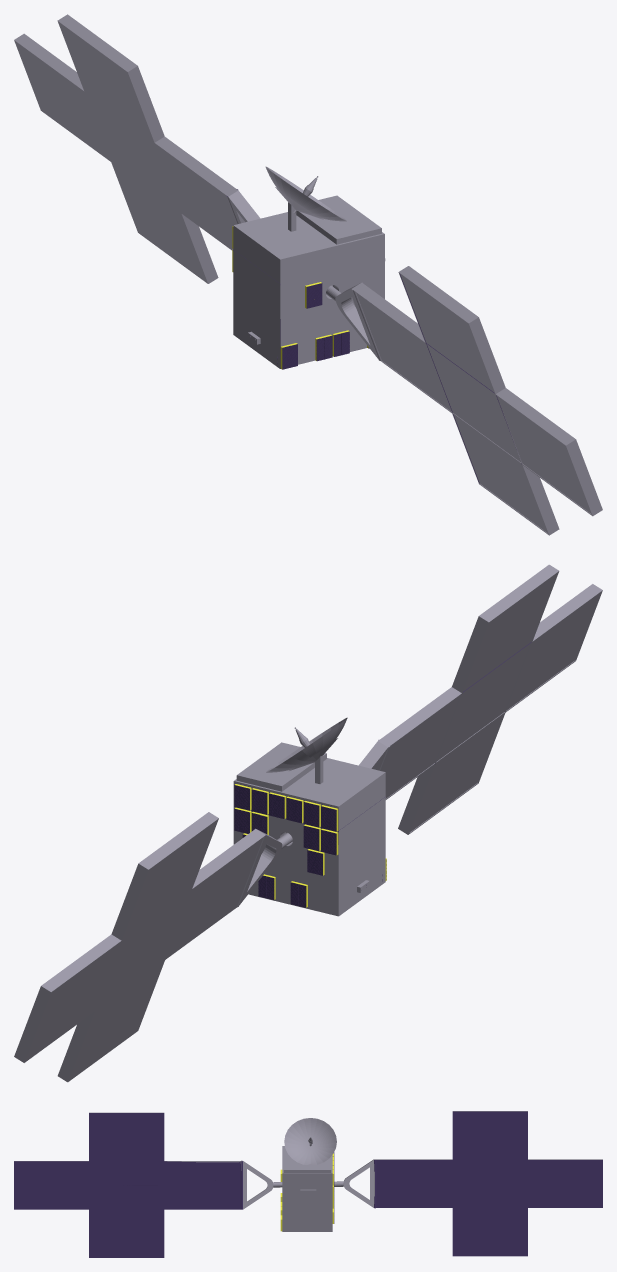
The model's file is spacecraft.obj.
The picture shows the model from 3 angles, top to bottom: view 1: azimuth 30°, elevation 25°; view 2: azimuth 150°, elevation 25°; view 3: azimuth 270°, elevation 25°; orthographic projection. The views are drawn at different scales.
Visible parts, largest first — view 1: psyche_spacecraft; view 2: psyche_spacecraft; view 3: psyche_spacecraft.
Boxes of the visible parts, x1,y1,x2,y2 form: psyche_spacecraft: [14, 14, 602, 535]; psyche_spacecraft: [14, 564, 602, 1082]; psyche_spacecraft: [14, 1111, 602, 1257].
Bounding box in the file's own units: 54.43 × 110 × 463.
